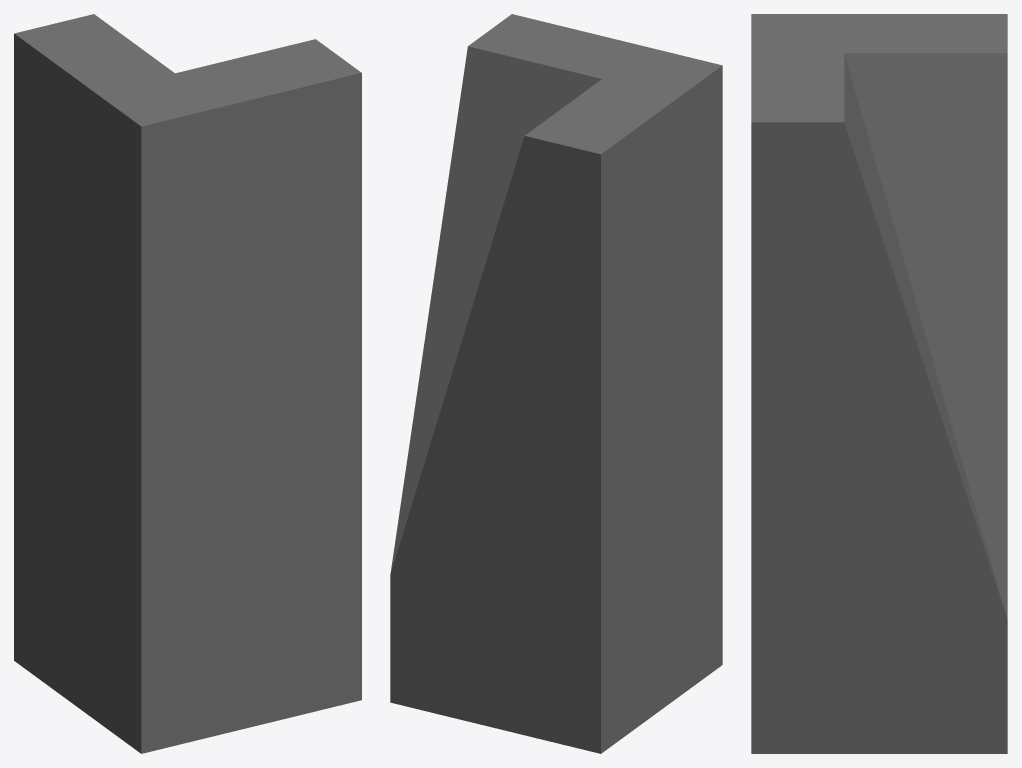
Rendered from BoardCorner.fbx.
3 renders of one model, left to right at view 1: azimuth 30°, elevation 25°; view 2: azimuth 150°, elevation 25°; view 3: azimuth 270°, elevation 25°, orthographic. The views are drawn at different scales.
Parts seen in each view (by area): view 1: BoardCorner; view 2: BoardCorner; view 3: BoardCorner.
Boxes of the visible parts, x1,y1,x2,y2 form: BoardCorner: (14,14,361,753); BoardCorner: (390,14,722,753); BoardCorner: (751,14,1007,753).
Size of the model in its own units: 27.58 by 75 by 27.58.
